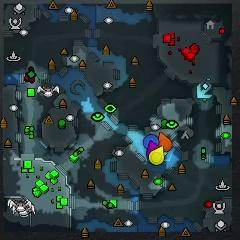p1: (143, 133, 159, 149)
p3: (146, 141, 159, 157)
p4: (149, 145, 164, 165)
p5: (159, 132, 172, 151)
x3: (197, 83, 212, 98)
